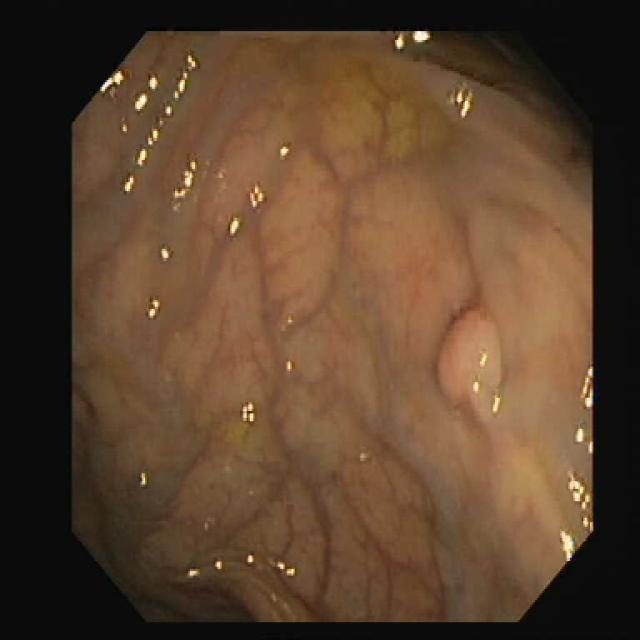tumor: (438, 307, 500, 409)
